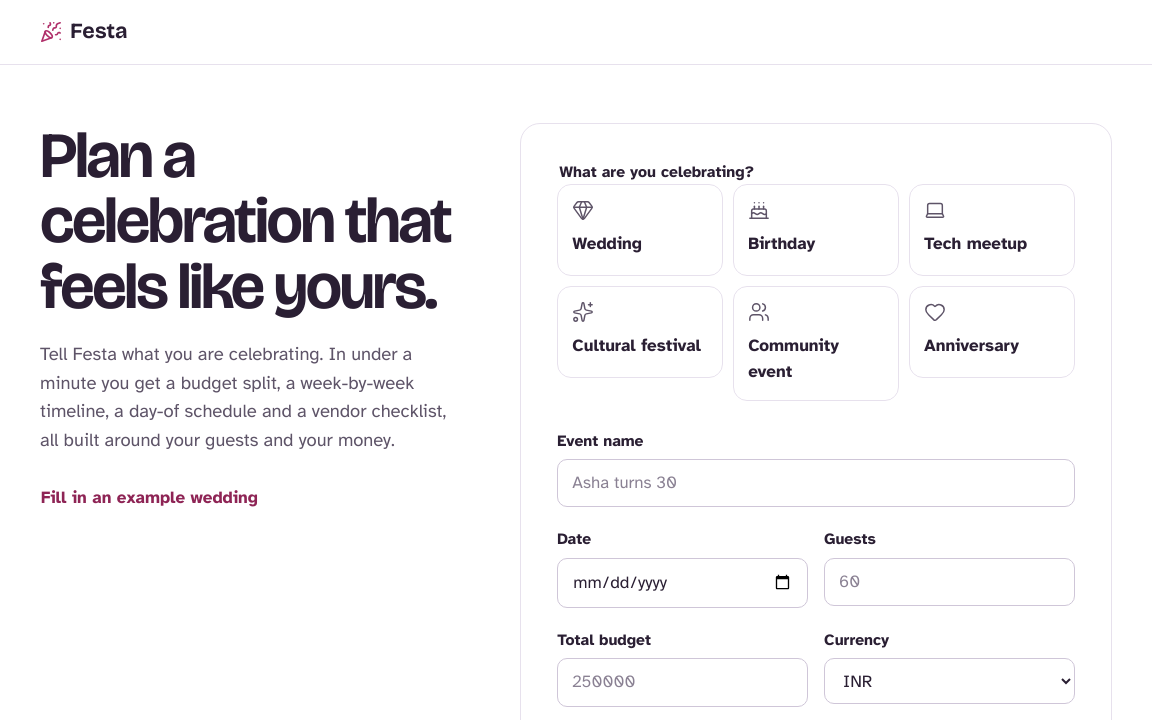
Test case: planner form › updates the headline as the event type changes
Click the radio button labelled "Tech meetup".
click(992, 230)  # box x1=909 y1=184 x2=1075 y2=276
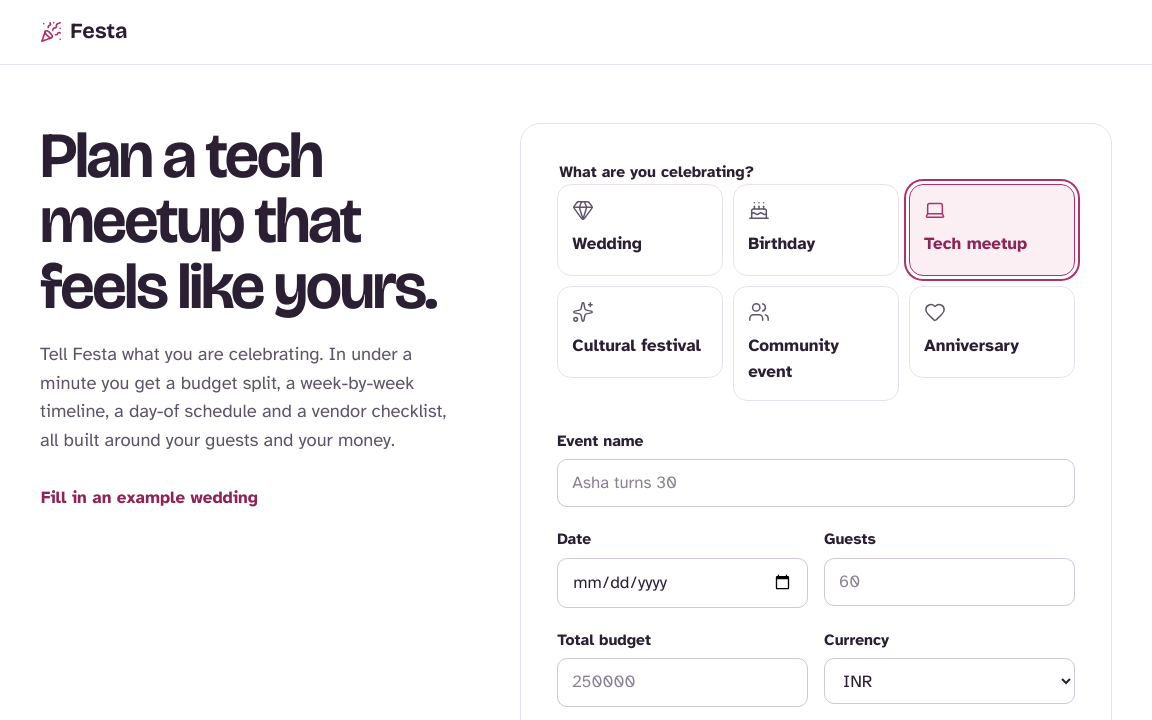
expect the heading reads "Plan a tech meetup that feels like yours.": met, box x1=40 y1=123 x2=461 y2=320
